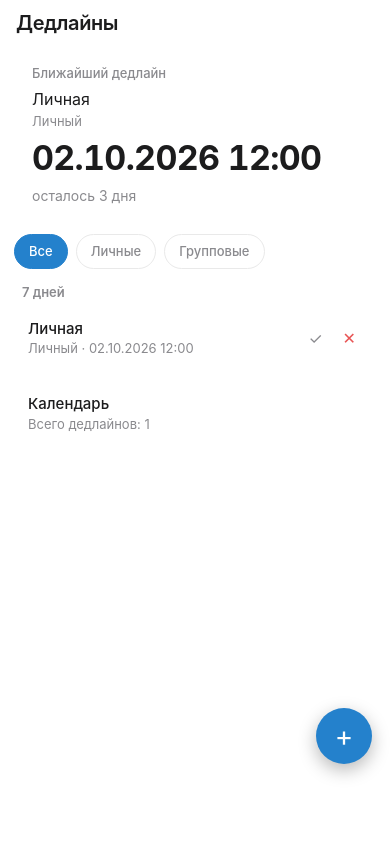
DeadlinesScreen: сегменты и фильтры › фильтр без подходящих дедлайнов — подсказка «Ничего не найдено»
Expected: the element with test id "cell-1" is shown, x1=14 y1=308 x2=376 y2=369
Click the button "Групповые" at (214, 251), box x1=164 y1=234 x2=264 y2=269
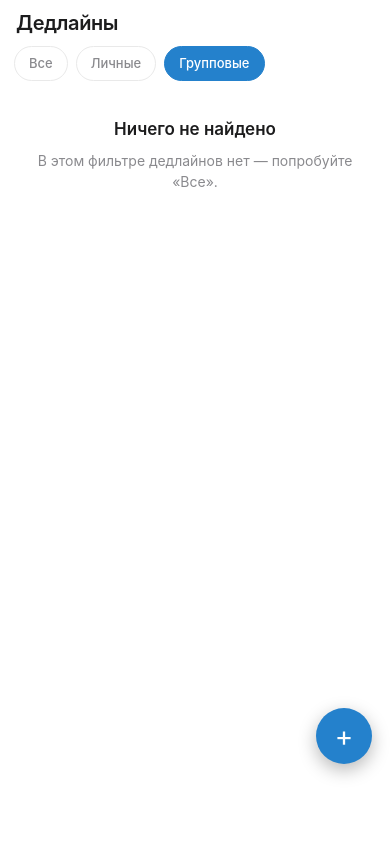
Now the text "Ничего не найдено" is shown, box x1=114 y1=117 x2=276 y2=141
